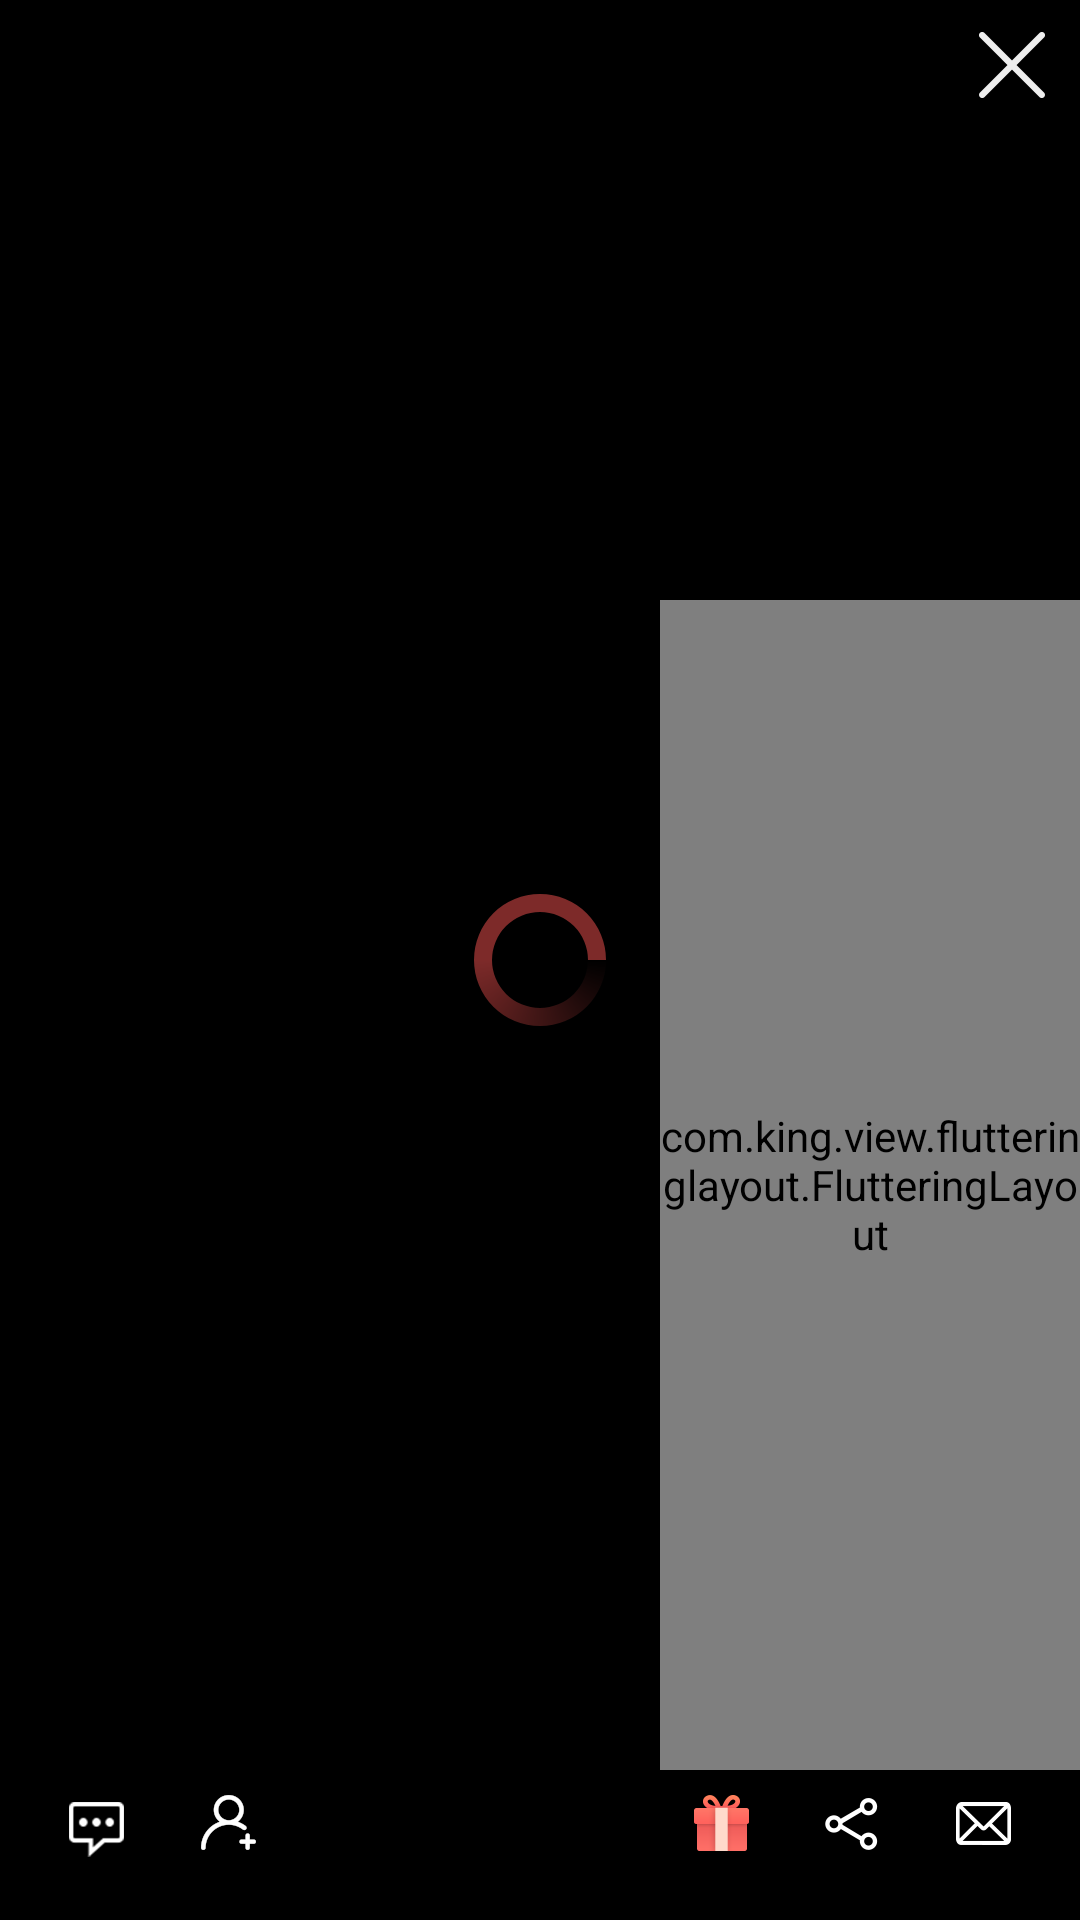

Where to tap for icons on this 1080 × 1920 app screen, as point (x, y):
close: point (1012, 65)
gift: point (721, 1823)
message: point (983, 1823)
share: point (851, 1824)
